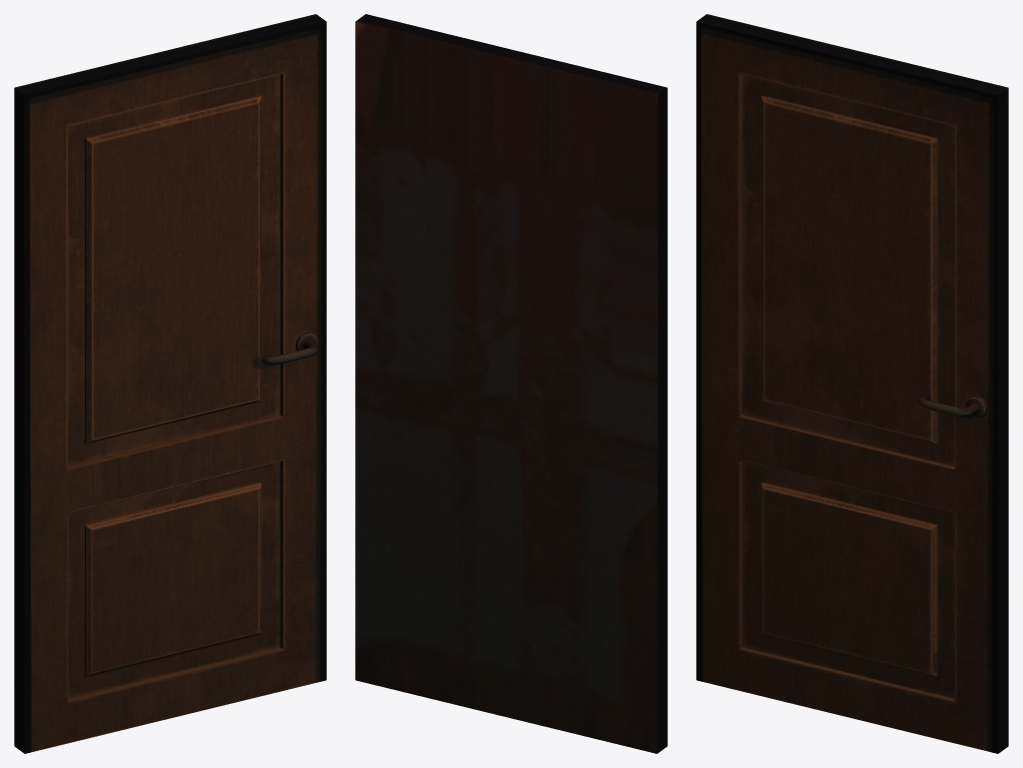
File: level_flat_inner_door_v0.83c.glb
3 views of the same model, side by side, from view 1: azimuth 30°, elevation 25°; view 2: azimuth 150°, elevation 25°; view 3: azimuth 330°, elevation 25° (orthographic).
Visible parts, largest first — view 1: huone1_ovi_sisa_ovi; view 2: huone1_ovi_sisa_ovi; view 3: huone1_ovi_sisa_ovi.
Part boxes in pixels (x1,y1,x2,y2): huone1_ovi_sisa_ovi: (14,14,326,753); huone1_ovi_sisa_ovi: (355,14,667,753); huone1_ovi_sisa_ovi: (696,14,1008,753).
Bounding box in the file's own units: 9.51 × 19.83 × 1.31.
1 material, 1 textured.
